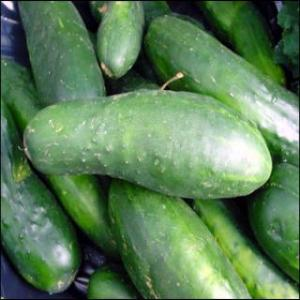cucumber: (19, 87, 273, 201), (142, 13, 300, 169), (103, 176, 253, 300), (0, 89, 82, 291), (18, 0, 108, 108), (96, 0, 148, 78)
